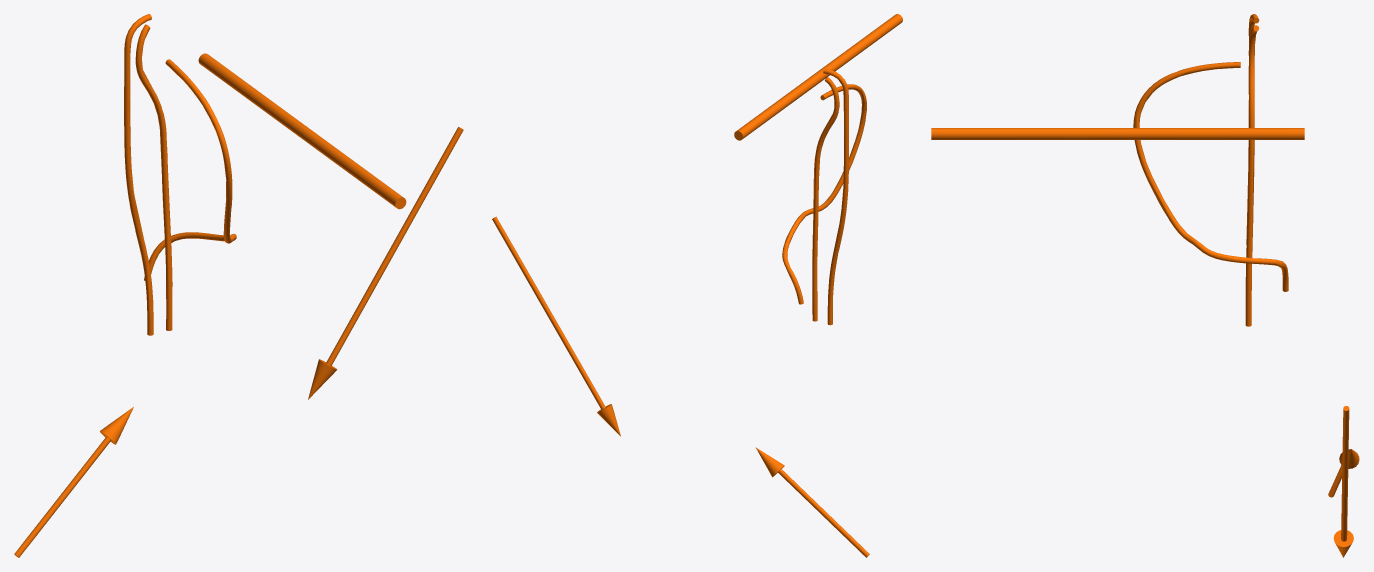
Rendered from s5arrow.glb.
3 renders of one model, left to right at view 1: azimuth 30°, elevation 25°; view 2: azimuth 150°, elevation 25°; view 3: azimuth 270°, elevation 25°, orthographic. The views are drawn at different scales.
Parts seen in each view (by area): view 1: Node; view 2: Node; view 3: Node.
Part boxes in pixels (left/top/right/bottom): Node: left=14, top=14, right=463, bottom=557; Node: left=492, top=14, right=902, bottom=557; Node: left=931, top=14, right=1359, bottom=557.
Size of the model in its own units: 4.96 by 5.71 by 4.25.
